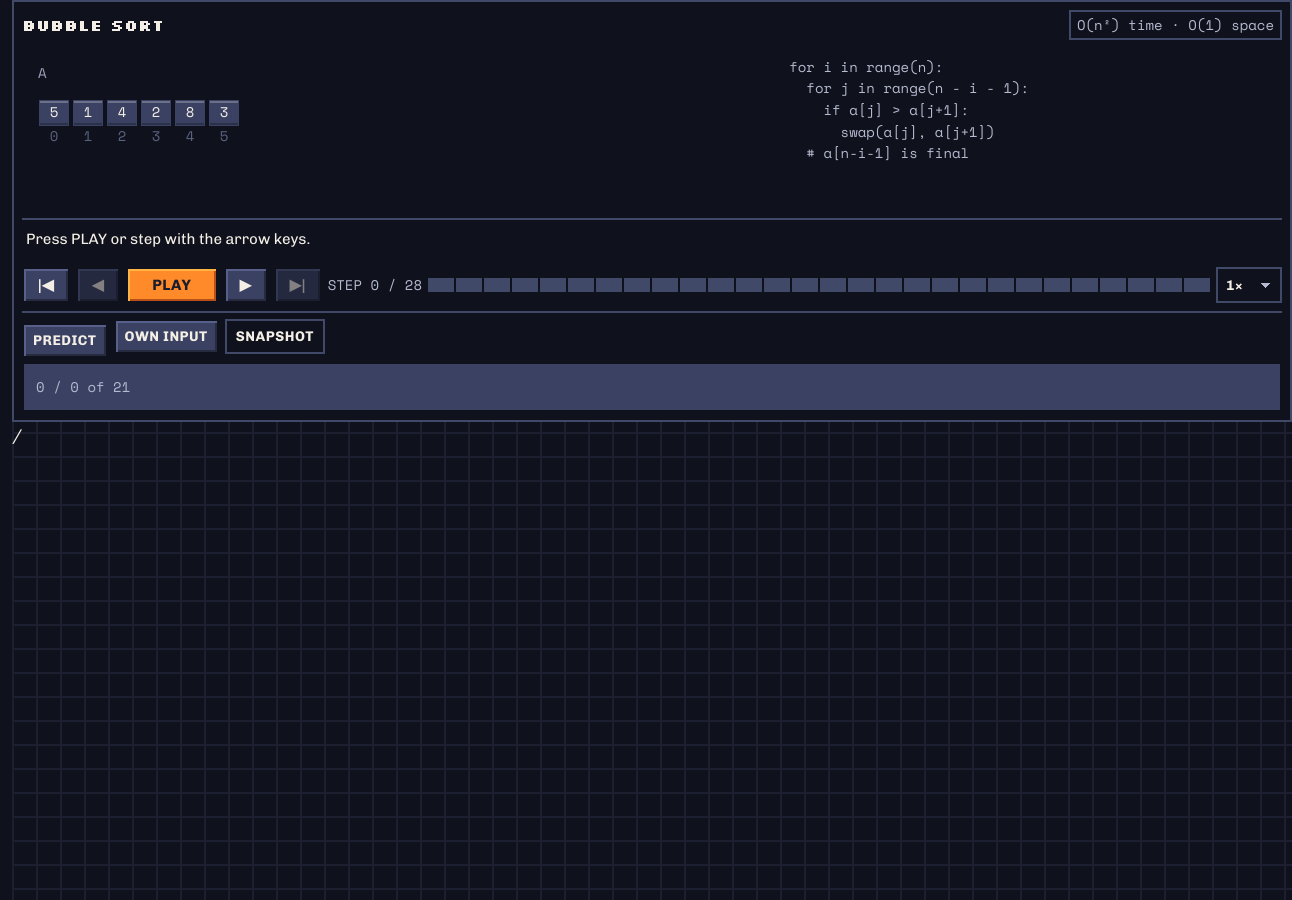
Test: AlgoPlayer (labs contract §4) › predict: a wrong answer names the right one (S19)
Expected: the element named "Player: " is shown, [12,0,1291,422]
Click the button named "Step forward" at (246, 285), box [224,267,268,303]
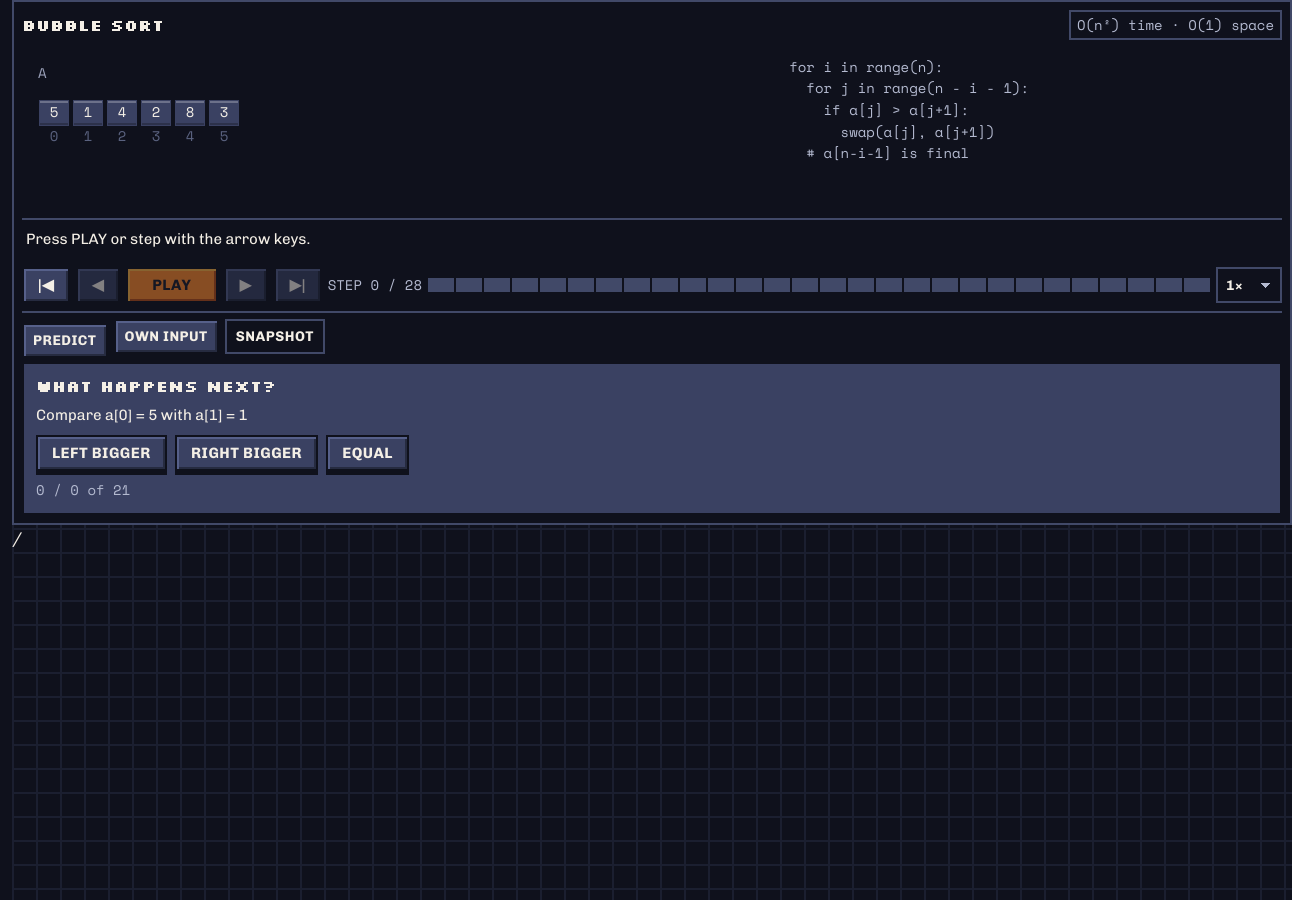
Expected: the button "Equal" is shown
Click the button "Equal" at (368, 453), box [326,435,409,471]
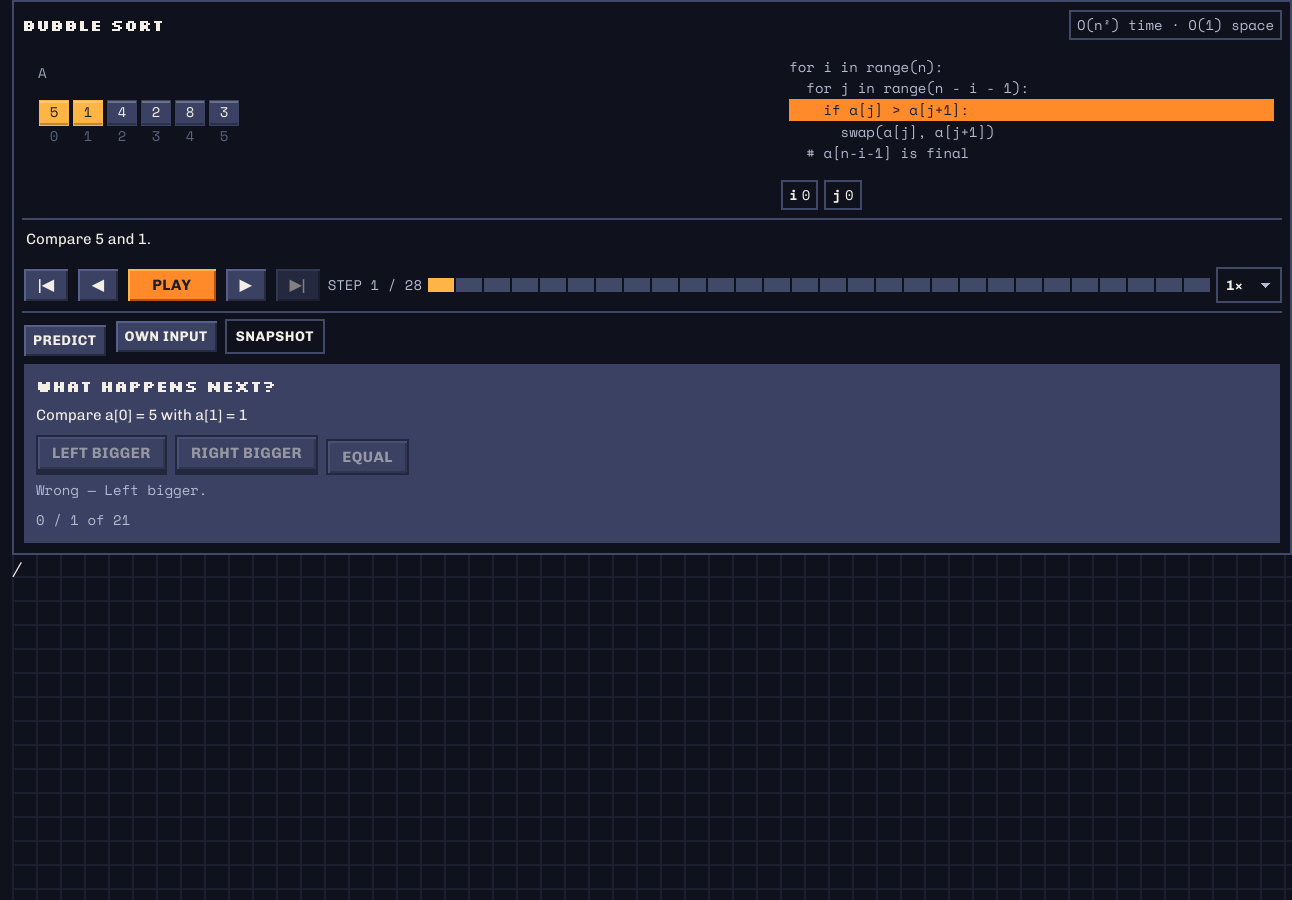
Expected: the message with test id "lab-predict-feedback" reads "Wrong — Left bigger.", [36,479,207,500]
Expected: the text with test id "lab-predict-score" reads "0 / 1 of 21", [36,509,130,530]
